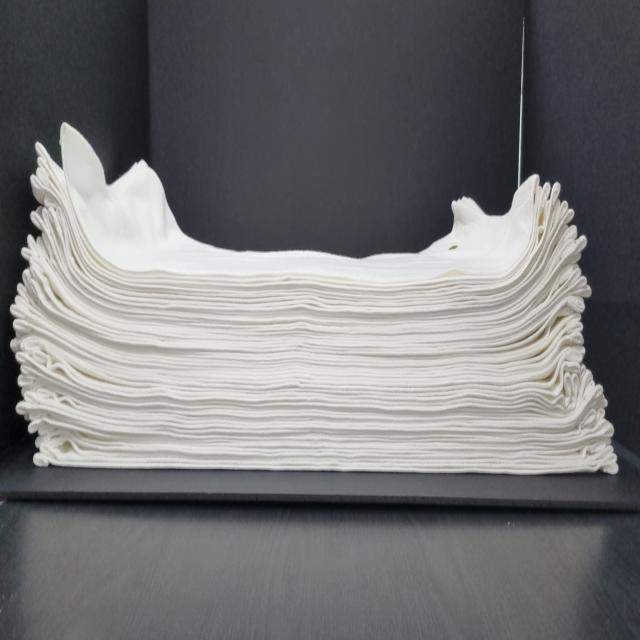50_towel_counts: (2, 92, 640, 490)
